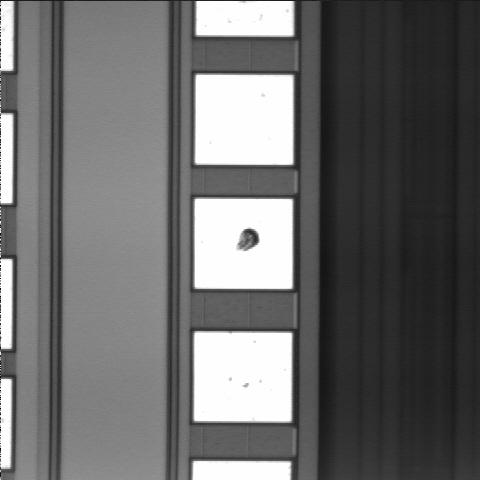pad: (195, 75, 293, 165), (195, 199, 293, 289), (194, 332, 292, 422)
